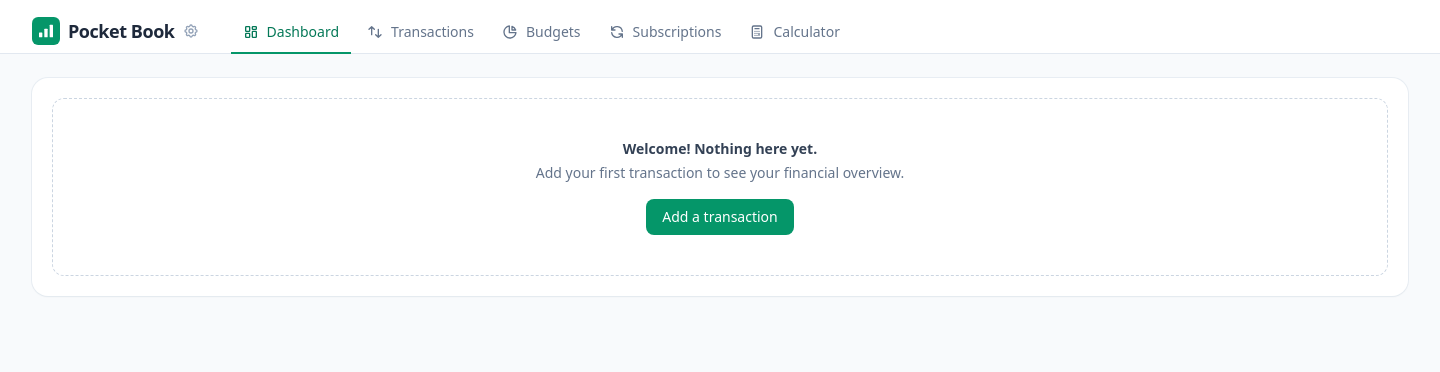
Test: Settings > Data protection › offers a button when not protected, and shows the browser's answer
Click the button with aria-label "open settings" at {"x": 115, "y": 30}, box 24,12 -> 207,48
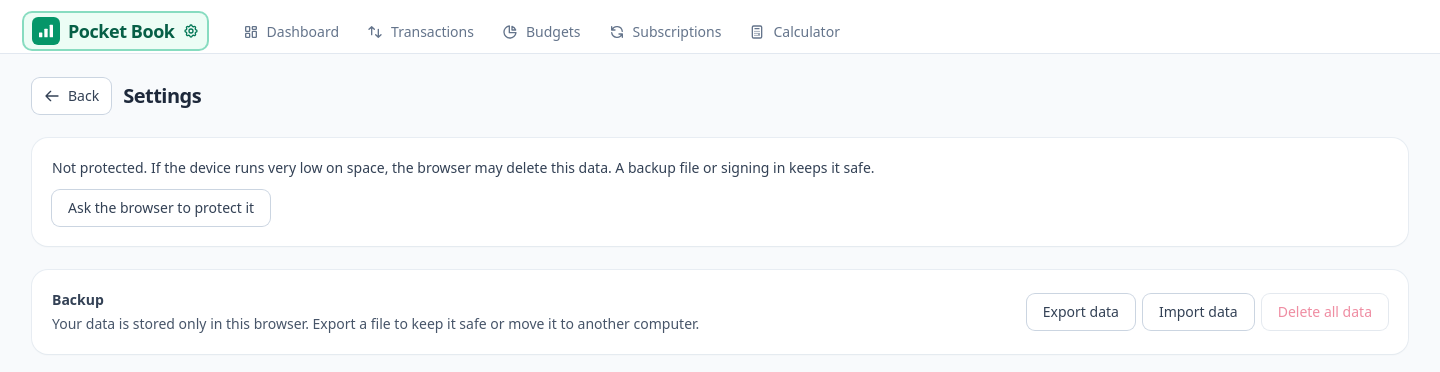
Click the button "Ask the browser to protect it" at {"x": 161, "y": 208}, box 52,190 -> 270,226
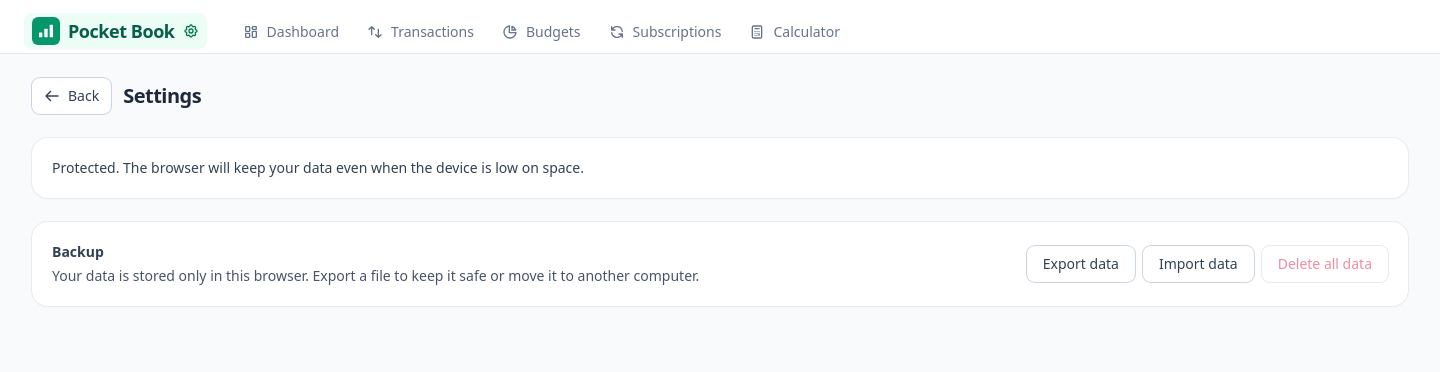
Check: the text "Protected." is shown, box 52,158 -> 584,177
Check: the button "Ask the browser to protect it" is gone
